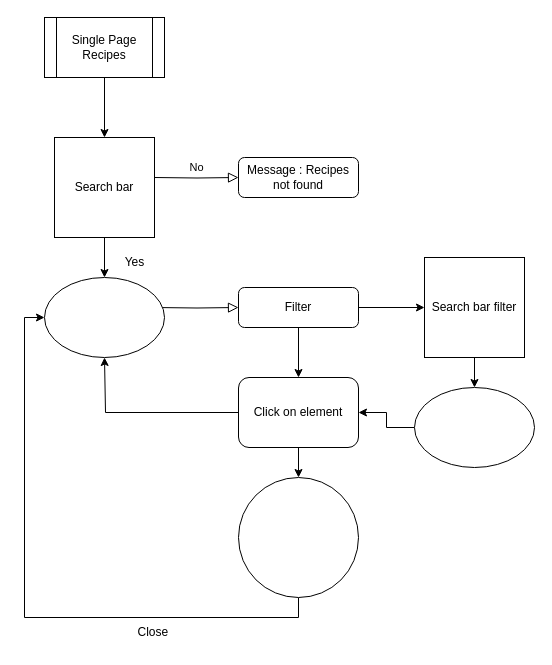
Some shapes in this 552 by 665 pixel diagram are drawn without their labels. The box of each missing label's shape, as (x1, y1, x2, y2) in pixels:
New bloc with the element value: (238, 476, 358, 598)
Update Display recipes: (44, 276, 164, 358)
Update list elements: (414, 386, 534, 468)
